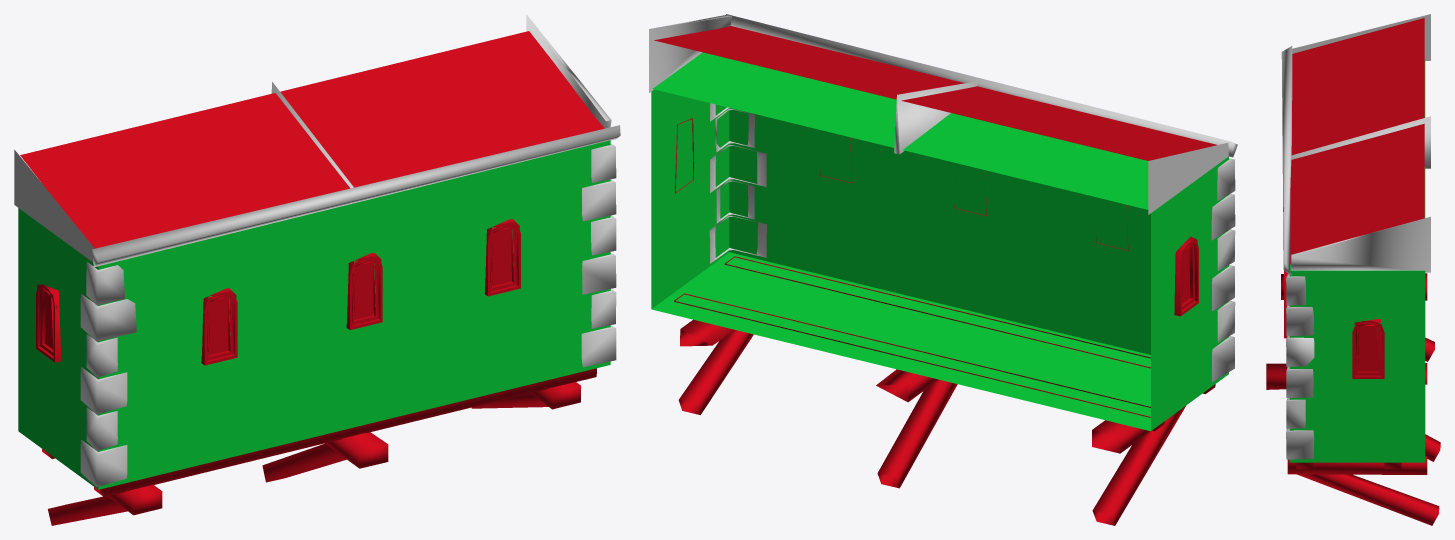
The model's file is Balcony (2).fbx.
The picture shows the model from 3 angles, left to right: view 1: azimuth 30°, elevation 25°; view 2: azimuth 150°, elevation 25°; view 3: azimuth 270°, elevation 25°; orthographic projection. The views are drawn at different scales.
Parts seen in each view (by area): view 1: Balcony.001; view 2: Balcony.001; view 3: Balcony.001.
Boxes of the visible parts, x1,y1,x2,y2 form: Balcony.001: (14, 14, 620, 525); Balcony.001: (649, 14, 1237, 525); Balcony.001: (1266, 14, 1440, 525).
Bounding box in the file's own units: 599 × 444 × 203.
